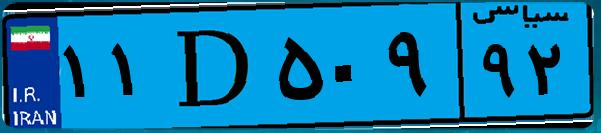0: (330, 28, 385, 110)
1: (57, 26, 110, 100), (110, 28, 158, 98)
2: (525, 38, 570, 115)
5: (270, 28, 330, 110)
9: (385, 28, 445, 110), (475, 38, 525, 113)
D: (158, 12, 270, 120)
